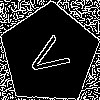V: (24, 29, 79, 83)
